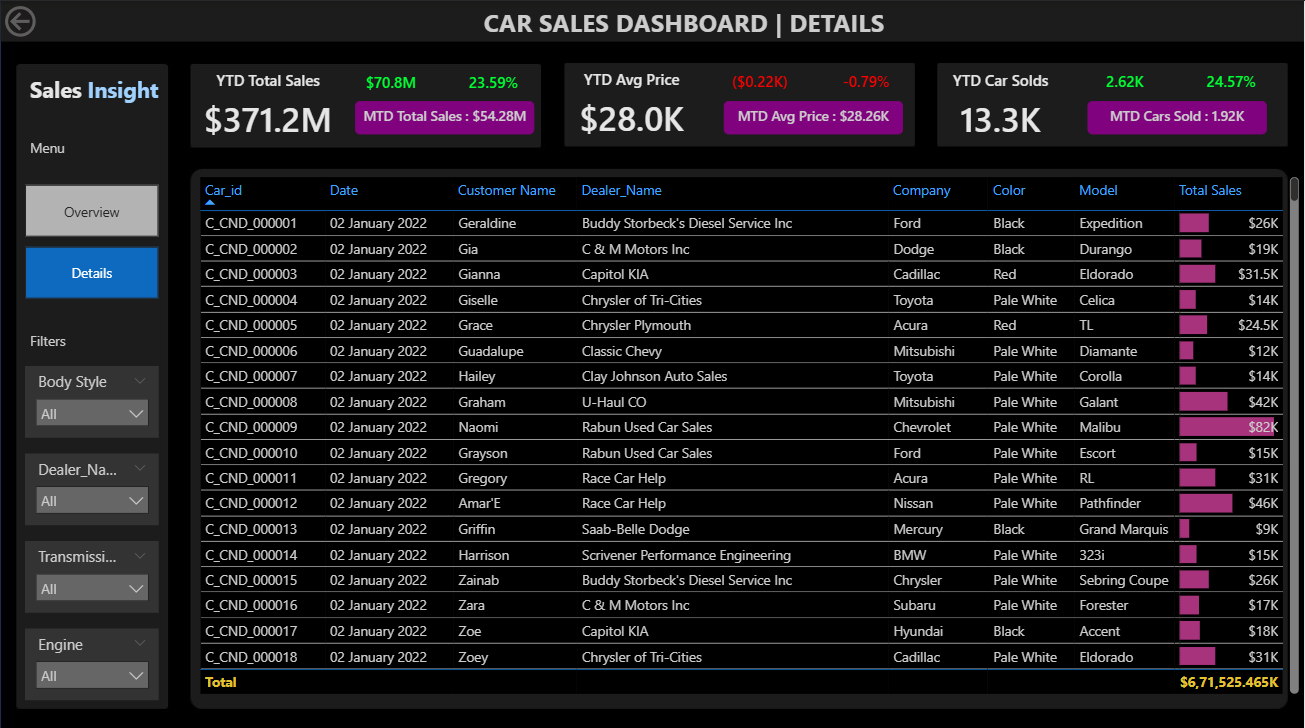

Layout of this report page (visuals, bound fields, positions):
{"tool":"powerbi","page":{"name":"Details","canvas":[1280,720],"ordinal":1},"visuals":[{"type":"card","title":"YTD Total Sales","fields":{"Values":["car_data.YTD Total Sales"]},"box":[177.1,67.1,172.9,77.1],"z":0},{"type":"card","fields":{"Values":["car_data.Sales Difference"]},"box":[350,67.1,68.6,27.1],"z":1000},{"type":"card","fields":{"Values":["car_data.YOY Sales Growth"]},"box":[450,67.1,68.6,27.1],"z":2000},{"type":"card","fields":{"Values":["car_data.MTD KPI"]},"box":[348.8,98.8,176.2,32.5],"z":3000},{"type":"card","title":"YTD Avg Price","fields":{"Values":["car_data.YTD Avg Price"]},"box":[534.3,65.7,172.9,77.1],"z":4000},{"type":"card","fields":{"Values":["car_data.Avg Price Diff"]},"box":[701.4,65.7,88.6,25.7],"z":5000},{"type":"card","fields":{"Values":["car_data.YoY Avg Price Growth"]},"box":[805.7,65.7,88.6,25.7],"z":6000},{"type":"card","fields":{"Values":["car_data.MTD Avg Price KPI"]},"box":[710,98.6,175.7,32.9],"z":7000},{"type":"card","title":"YTD Car Solds","fields":{"Values":["car_data.YTD Car Solds"]},"box":[895.7,67.1,172.9,77.1],"z":8000},{"type":"card","fields":{"Values":["car_data.Car Sold Difference"]},"box":[1060,65.7,88.6,25.7],"z":9000},{"type":"card","fields":{"Values":["car_data.YOY Car Sold Growth"]},"box":[1164.3,65.7,88.6,25.7],"z":10000},{"type":"card","fields":{"Values":["car_data.MTD Car Sold KPI"]},"box":[1067.1,98.6,175.7,32.9],"z":11000},{"type":"actionButton","box":[0,0,100,40],"z":17000},{"type":"textbox","box":[430,0,484.3,45.7],"z":18000},{"type":"slicer","fields":{"Values":["car_data.Body Style"]},"box":[24.3,358.6,131.4,70],"z":19000},{"type":"slicer","fields":{"Values":["car_data.Dealer_Name"]},"box":[24.3,444.3,131.4,70],"z":20000},{"type":"slicer","fields":{"Values":["car_data.Transmission"]},"box":[24.3,530,131.4,70],"z":21000},{"type":"slicer","fields":{"Values":["car_data.Engine"]},"box":[24.3,615.7,131.4,70],"z":22000},{"type":"textbox","box":[24.3,318.6,62.9,30],"z":23000},{"type":"tableEx","fields":{"Values":["car_data.Car_id","car_data.Date","car_data.Customer Name","car_data.Dealer_Name","car_data.Company","car_data.Color","car_data.Model","car_data.Total Sales"]},"box":[190,168.6,1090,517.1],"z":23001},{"type":"textbox","box":[24.3,67.1,150,45.7],"z":23002},{"type":"textbox","box":[24.3,130,150,30],"z":23003},{"type":"pageNavigator","box":[24.3,180,131.4,112.9],"z":23004}]}

Visuals, with their boxes in screenshot pixels (x1, y1, x2, y2), scaled from the page's 1280x720 canvas onto the 1305x728 screenshot:
"YTD Total Sales" card: region(181, 68, 357, 146)
card - car_data.Sales Difference: region(357, 68, 427, 95)
card - car_data.YOY Sales Growth: region(459, 68, 529, 95)
card - car_data.MTD KPI: region(356, 100, 535, 133)
"YTD Avg Price" card: region(545, 66, 721, 144)
card - car_data.Avg Price Diff: region(715, 66, 805, 92)
card - car_data.YoY Avg Price Growth: region(821, 66, 912, 92)
card - car_data.MTD Avg Price KPI: region(724, 100, 903, 133)
"YTD Car Solds" card: region(913, 68, 1089, 146)
card - car_data.Car Sold Difference: region(1081, 66, 1171, 92)
card - car_data.YOY Car Sold Growth: region(1187, 66, 1277, 92)
card - car_data.MTD Car Sold KPI: region(1088, 100, 1267, 133)
actionButton: region(0, 0, 102, 40)
textbox: region(438, 0, 932, 46)
slicer - car_data.Body Style: region(25, 363, 159, 433)
slicer - car_data.Dealer_Name: region(25, 449, 159, 520)
slicer - car_data.Transmission: region(25, 536, 159, 607)
slicer - car_data.Engine: region(25, 623, 159, 693)
textbox: region(25, 322, 89, 352)
tableEx - car_data.Car_id x car_data.Date: region(194, 170, 1304, 693)
textbox: region(25, 68, 178, 114)
textbox: region(25, 131, 178, 162)
pageNavigator: region(25, 182, 159, 296)
